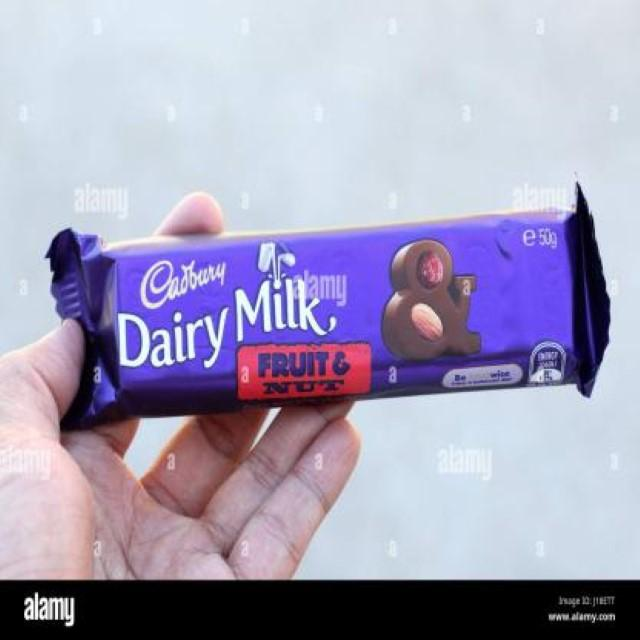cadbury_chocolate: (90, 234, 598, 418)
